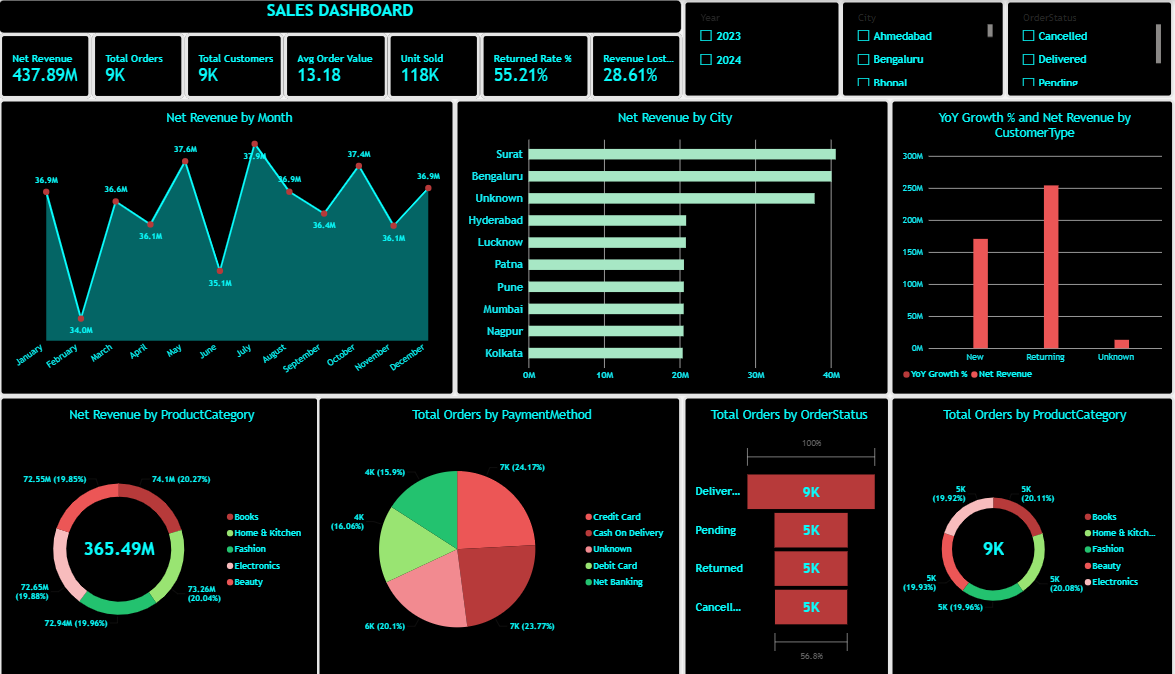

The dashboard page shown, as its layout file describes it:
{"tool":"powerbi","page":{"name":"Page 1","canvas":[1920,1080],"ordinal":0},"visuals":[{"type":"cardVisual","fields":{"Data":["ecommerce_sales_clean.Net Revenue"]},"box":[0,52.5,147.5,105],"z":0},{"type":"textbox","box":[0,0,1085,52.5],"z":1000},{"type":"cardVisual","fields":{"Data":["ecommerce_sales_clean.Total Customers"]},"box":[295,52.5,157.5,105],"z":2000},{"type":"cardVisual","fields":{"Data":["ecommerce_sales_clean.Avg Order Value"]},"box":[452.5,52.5,165,105],"z":3000},{"type":"cardVisual","fields":{"Data":["ecommerce_sales_clean.Revenue Lost %"]},"box":[940,52.5,147.5,105],"z":4000},{"type":"cardVisual","fields":{"Data":["ecommerce_sales_clean.Unit Sold"]},"box":[617.5,52.5,147.5,105],"z":5000},{"type":"cardVisual","fields":{"Data":["ecommerce_sales_clean.Total Orders"]},"box":[147.5,52.5,147.5,105],"z":6000},{"type":"cardVisual","fields":{"Data":["ecommerce_sales_clean.Returned Rate %"]},"box":[765,52.5,175,105],"z":7000},{"type":"lineChart","fields":{"Category":["ecommerce_sales_clean.OrderDate.Variation.Date Hierarchy.Month"],"Y":["ecommerce_sales_clean.Net Revenue"]},"box":[0,157.5,725,472.5],"z":8000},{"type":"donutChart","fields":{"Category":["ecommerce_sales_clean.ProductCategory"],"Y":["ecommerce_sales_clean.Total Orders"]},"box":[1417.2,629.9,452.5,450],"z":9000},{"type":"donutChart","fields":{"Category":["ecommerce_sales_clean.ProductCategory"],"Y":["ecommerce_sales_clean.Net Revenue"]},"box":[0,629.9,510,450],"z":10000},{"type":"pieChart","fields":{"Category":["ecommerce_sales_clean.PaymentMethod"],"Y":["ecommerce_sales_clean.Total Orders"]},"box":[505.8,629.9,580,450],"z":11000},{"type":"funnel","fields":{"Category":["ecommerce_sales_clean.OrderStatus"],"Y":["ecommerce_sales_clean.Total Orders"]},"box":[1088,629.9,330,450],"z":12000},{"type":"slicer","fields":{"Values":["ecommerce_sales_clean.OrderDate.Variation.Date Hierarchy.Year"]},"box":[1087.9,0,251.5,156.2],"z":12001},{"type":"slicer","fields":{"Values":["ecommerce_sales_clean.City"]},"box":[1339.4,0,262.1,156.2],"z":12002},{"type":"slicer","title":"ORDER  STATUS","fields":{"Values":["ecommerce_sales_clean.OrderStatus"]},"box":[1601.5,0,267.4,156.2],"z":12003},{"type":"barChart","fields":{"Category":["ecommerce_sales_clean.City"],"Y":["ecommerce_sales_clean.Net Revenue"]},"box":[725.3,157.5,691.9,472.4],"z":12004},{"type":"clusteredColumnChart","fields":{"Category":["ecommerce_sales_clean.CustomerType"],"Y":["ecommerce_sales_clean.YoY Growth %","ecommerce_sales_clean.Net Revenue"]},"box":[1417.2,157.5,452.5,472.4],"z":12005}]}

Visuals, with their boxes in screenshot pixels (x1, y1, x2, y2), scaled from the page's 1920x1080 canvas onto the 1175x674 screenshot:
cardVisual - ecommerce_sales_clean.Net Revenue: (x1=0, y1=33, x2=90, y2=98)
textbox: (x1=0, y1=0, x2=664, y2=33)
cardVisual - ecommerce_sales_clean.Total Customers: (x1=181, y1=33, x2=277, y2=98)
cardVisual - ecommerce_sales_clean.Avg Order Value: (x1=277, y1=33, x2=378, y2=98)
cardVisual - ecommerce_sales_clean.Revenue Lost %: (x1=575, y1=33, x2=666, y2=98)
cardVisual - ecommerce_sales_clean.Unit Sold: (x1=378, y1=33, x2=468, y2=98)
cardVisual - ecommerce_sales_clean.Total Orders: (x1=90, y1=33, x2=181, y2=98)
cardVisual - ecommerce_sales_clean.Returned Rate %: (x1=468, y1=33, x2=575, y2=98)
lineChart - ecommerce_sales_clean.OrderDate.Variation.Date Hierarchy.Month x ecommerce_sales_clean.Net Revenue: (x1=0, y1=98, x2=444, y2=393)
donutChart - ecommerce_sales_clean.ProductCategory x ecommerce_sales_clean.Total Orders: (x1=867, y1=393, x2=1144, y2=673)
donutChart - ecommerce_sales_clean.ProductCategory x ecommerce_sales_clean.Net Revenue: (x1=0, y1=393, x2=312, y2=673)
pieChart - ecommerce_sales_clean.PaymentMethod x ecommerce_sales_clean.Total Orders: (x1=310, y1=393, x2=664, y2=673)
funnel - ecommerce_sales_clean.OrderStatus x ecommerce_sales_clean.Total Orders: (x1=666, y1=393, x2=868, y2=673)
slicer - ecommerce_sales_clean.OrderDate.Variation.Date Hierarchy.Year: (x1=666, y1=0, x2=820, y2=97)
slicer - ecommerce_sales_clean.City: (x1=820, y1=0, x2=980, y2=97)
"ORDER  STATUS" slicer: (x1=980, y1=0, x2=1144, y2=97)
barChart - ecommerce_sales_clean.City x ecommerce_sales_clean.Net Revenue: (x1=444, y1=98, x2=867, y2=393)
clusteredColumnChart - ecommerce_sales_clean.CustomerType x ecommerce_sales_clean.YoY Growth %: (x1=867, y1=98, x2=1144, y2=393)
